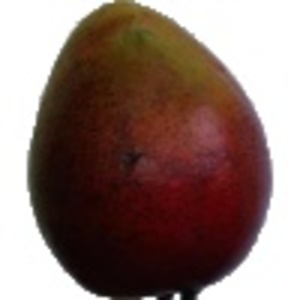manga: (28, 1, 274, 300)
